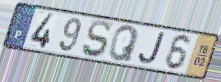4: (28, 11, 55, 50)
6: (164, 34, 192, 72)
9: (58, 17, 82, 53)
J: (138, 31, 167, 66)
Q: (107, 25, 140, 64)
S: (81, 19, 112, 59)
